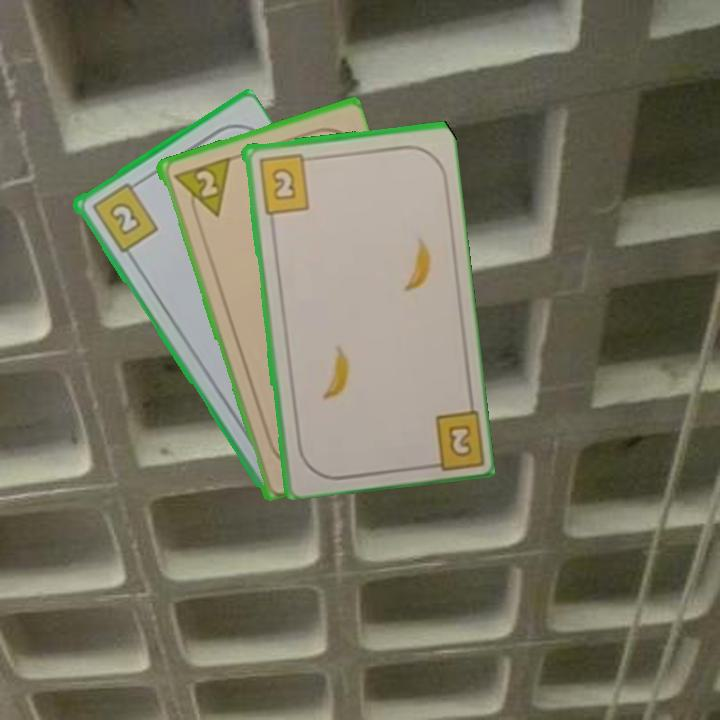2b: (88, 177, 160, 255), (419, 404, 484, 471), (254, 150, 316, 216)
2p: (168, 153, 232, 224)
